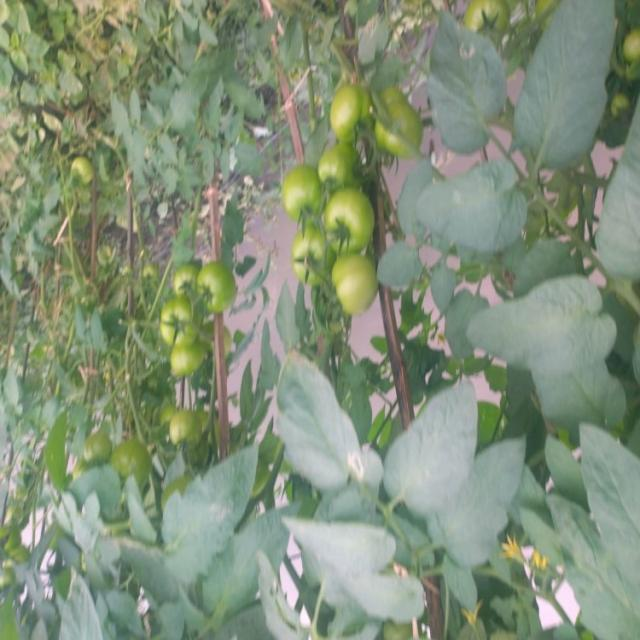tomato: (324, 185, 381, 261), (327, 244, 381, 324), (148, 292, 205, 354), (310, 140, 364, 203), (319, 75, 364, 147), (192, 261, 243, 317), (457, 4, 518, 48), (114, 442, 161, 499), (153, 408, 209, 449), (155, 338, 209, 380), (283, 152, 318, 210), (286, 239, 328, 284), (162, 255, 200, 298), (61, 152, 97, 194), (619, 33, 640, 73)
